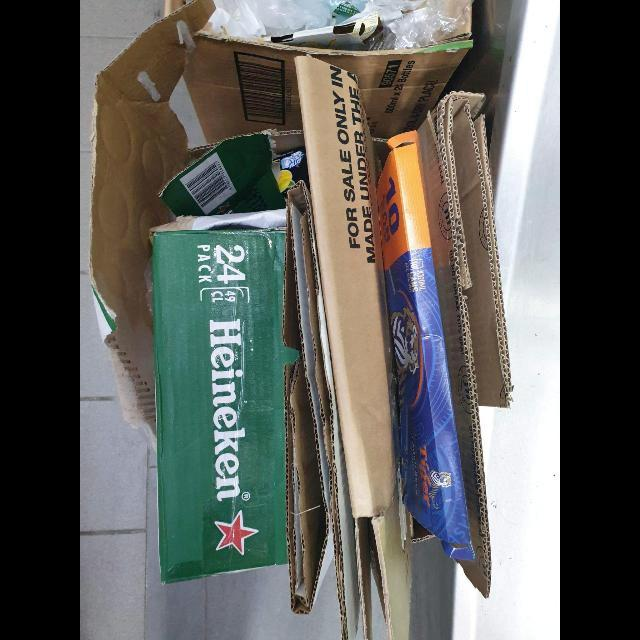cardboard: (295, 56, 410, 640), (149, 210, 299, 586), (418, 92, 513, 600), (90, 2, 192, 436), (377, 133, 475, 564), (280, 150, 363, 640), (158, 134, 286, 218)
